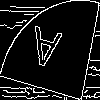A: (25, 25, 63, 79)
